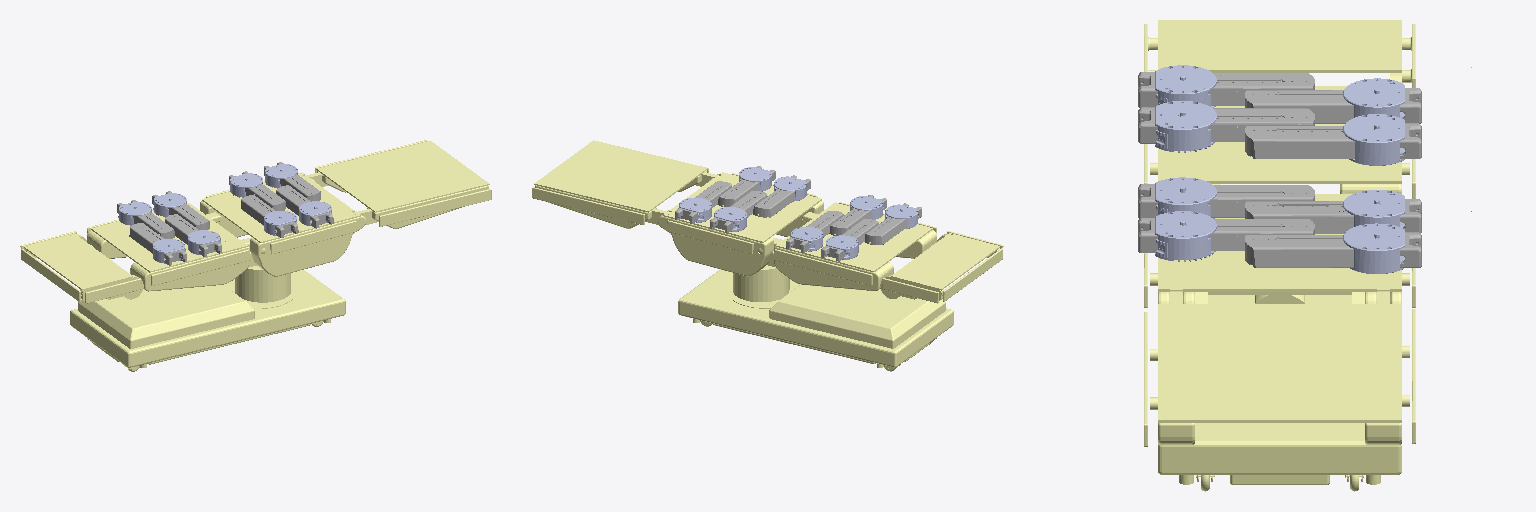
--- Facts derived from the render (not from the file) ---
3 views of the same robot in one strip: view 1: azimuth 30°, elevation 25°; view 2: azimuth 150°, elevation 25°; view 3: azimuth 270°, elevation 25° (orthographic).
Robot: drawers — 50 links, 49 joints (13 revolute, 11 prismatic, 24 fixed, 1 floating); root link common_robot_frame; default pose: joints at zero except 1 at the middle of their limits (bed_raisebed1_joint = 0.0775).
Links seen in each view (by area): view 1: bed_base_link, bed_feet_link, bed_legs_link, bed_back_link, bed_head_link, bed_raise_3_link, drawer3_translation_link, drawer7_translation_link, drawer1_translation_link, drawer5_translation_link, drawer2_translation_link, drawer6_translation_link (+4 smaller); view 2: bed_base_link, bed_feet_link, bed_legs_link, bed_back_link, bed_head_link, bed_raise_3_link, drawer3_translation_link, drawer7_translation_link, drawer0_translation_link, drawer2_translation_link, drawer4_translation_link, drawer6_translation_link (+2 smaller); view 3: bed_feet_link, bed_head_link, bed_base_link, bed_legs_link, bed_back_link, drawer4_translation_link, drawer0_translation_link, drawer6_translation_link, drawer2_translation_link, drawer5_translation_link, drawer7_translation_link, drawer3_translation_link (+10 smaller).
Link boxes in pixels (x1,y1,x2,y2): bed_base_link: [70, 270, 345, 371]; bed_feet_link: [304, 140, 491, 228]; bed_legs_link: [200, 172, 365, 276]; bed_back_link: [87, 203, 250, 292]; bed_head_link: [20, 231, 143, 303]; bed_raise_3_link: [235, 252, 290, 302]; drawer3_translation_link: [241, 195, 298, 237]; drawer7_translation_link: [129, 223, 186, 265]; drawer1_translation_link: [276, 185, 333, 228]; drawer5_translation_link: [165, 214, 221, 256]; drawer2_translation_link: [229, 171, 285, 210]; drawer6_translation_link: [117, 200, 174, 238]; bed_base_link: [678, 269, 953, 371]; bed_feet_link: [532, 140, 719, 228]; bed_legs_link: [658, 172, 823, 276]; bed_back_link: [774, 202, 936, 291]; bed_head_link: [880, 231, 1003, 303]; bed_raise_3_link: [733, 251, 789, 301]; drawer3_translation_link: [753, 175, 810, 217]; drawer7_translation_link: [865, 203, 921, 244]; drawer0_translation_link: [675, 181, 731, 223]; drawer2_translation_link: [710, 191, 766, 233]; drawer4_translation_link: [786, 211, 843, 252]; drawer6_translation_link: [821, 219, 878, 261]; bed_feet_link: [1144, 291, 1415, 446]; bed_head_link: [1144, 20, 1415, 87]; bed_base_link: [1158, 295, 1401, 491]; bed_legs_link: [1144, 194, 1415, 307]; bed_back_link: [1144, 86, 1415, 198]; drawer4_translation_link: [1245, 123, 1421, 158]; drawer0_translation_link: [1245, 232, 1421, 267]; drawer6_translation_link: [1245, 88, 1421, 123]; drawer2_translation_link: [1245, 199, 1421, 233]; drawer5_translation_link: [1138, 107, 1314, 143]; drawer7_translation_link: [1138, 72, 1314, 107]; drawer3_translation_link: [1138, 184, 1314, 218].
Size in the robot's own frame: 2.01 by 0.7825 by 0.6412 metres.
Meshes: 13 distinct files referenced, 33 mesh visuals loaded (12 binary STL); not drawn: 8 (reference not matched to a file when rendering).

robot.urdf — drawers:
<?xml version="1.0" ?>
<!-- =================================================================================== -->
<!-- |    This document was autogenerated by xacro from drawers.urdf.xacro             | -->
<!-- |    EDITING THIS FILE BY HAND IS NOT RECOMMENDED                                 | -->
<!-- =================================================================================== -->
<robot name="drawers" xmlns:xacro="http://ros.org/wiki/xacro">
  <!-- The following include files set up definitions of parts of the robot body -->
  <link name="common_robot_frame"/>
  <link name="bed_base_link">
    <inertial>
      <origin rpy="0 0 0" xyz="-0.131602965768192 -1.31458389088654E-05 0.424560708267021"/>
      <mass value="220.861213301065"/>
      <inertia ixx="17.0412486434188" ixy="-0.00369906898155943" ixz="6.62999788327738" iyy="63.6679488186394" iyz="-0.000297127244615984" izz="56.5939202197707"/>
    </inertial>
    <visual>
      <origin rpy="0 0 0" xyz="0 0 0"/>
      <geometry>
        <mesh filename="package://2015_drawer_urdf_3a/meshes/bed_base_link.STL"/>
      </geometry>
      <material name="">
        <color rgba="1 1 0.752941176470588 1"/>
      </material>
    </visual>
    <collision>
      <origin rpy="0 0 0" xyz="0 0 0"/>
      <geometry>
        <mesh filename="package://2015_drawer_urdf_3a/meshes/bed_base_link.STL"/>
      </geometry>
    </collision>
  </link>
  <joint name="bed_world_joint" type="floating">
    <child link="bed_base_link"/>
    <parent link="common_robot_frame"/>
    <origin rpy="0 0 0" xyz="0 0 0"/>
  </joint>
  <link name="bed_raise_1_link">
    <inertial>
      <origin rpy="0 0 0" xyz="-1.99815231730176E-33 -4.27276067386562E-18 0.142514003145377"/>
      <mass value="1.24228157237718"/>
      <inertia ixx="0.00789389297402003" ixy="-9.52796335324707E-36" ixz="3.82035664017243E-34" iyy="0.00789389297402004" iyz="3.67826563901197E-18" izz="0.0107451129457144"/>
    </inertial>
    <visual>
      <origin rpy="0 0 0" xyz="0 0 0"/>
      <geometry>
        <mesh filename="package://2015_drawer_urdf_3a/meshes/bed_raise_1_link.STL"/>
      </geometry>
      <material name="">
        <color rgba="0.792156862745098 0.819607843137255 0.933333333333333 1"/>
      </material>
    </visual>
    <collision>
      <origin rpy="0 0 0" xyz="0 0 0"/>
      <geometry>
        <mesh filename="package://2015_drawer_urdf_3a/meshes/bed_raise_1_link.STL"/>
      </geometry>
    </collision>
  </link>
  <joint name="bed_raisebed1_joint" type="prismatic">
    <origin rpy="0 0 0" xyz="0 0 0.14859"/>
    <parent link="bed_base_link"/>
    <child link="bed_raise_1_link"/>
    <axis xyz="0 0 -1"/>
    <limit effort="0" lower="0.00254" upper="0.1524" velocity="0"/>
  </joint>
  <link name="bed_raise_2_link">
    <inertial>
      <origin rpy="0 0 0" xyz="8.64073602451139E-20 1.50296821912865E-18 0.11748156814415"/>
      <mass value="1.33771407866088"/>
      <inertia ixx="0.00890960520031803" ixy="6.49139454712423E-19" ixz="-9.00775139575257E-21" iyy="0.00890960520031804" iyz="4.46757691140295E-19" izz="0.0122471599227618"/>
    </inertial>
    <visual>
      <origin rpy="0 0 0" xyz="0 0 0"/>
      <geometry>
        <mesh filename="package://2015_drawer_urdf_3a/meshes/bed_raise_2_link.STL"/>
      </geometry>
      <material name="">
        <color rgba="0.792156862745098 0.819607843137255 0.933333333333333 1"/>
      </material>
    </visual>
    <collision>
      <origin rpy="0 0 0" xyz="0 0 0"/>
      <geometry>
        <mesh filename="package://2015_drawer_urdf_3a/meshes/bed_raise_2_link.STL"/>
      </geometry>
    </collision>
  </link>
  <joint name="bed_raisebed2_joint" type="prismatic">
    <origin rpy="6.9389E-18 -1.6263E-18 -7.2858E-17" xyz="0 0 0.049604"/>
    <parent link="bed_raise_1_link"/>
    <child link="bed_raise_2_link"/>
    <axis xyz="0 0 -1"/>
    <limit effort="0" lower="0" upper="0.1281938" velocity="0"/>
  </joint>
  <link name="bed_raise_3_link">
    <inertial>
      <origin rpy="0 0 0" xyz="-0.131602965768195 -1.31458389134051E-05 0.20096670816103"/>
      <mass value="220.861213301065"/>
      <inertia ixx="17.0412486434191" ixy="-0.00369906898203669" ixz="6.62999788327741" iyy="63.6679488186396" iyz="-0.000297127245286047" izz="56.5939202197706"/>
    </inertial>
    <visual>
      <origin rpy="0 0 0" xyz="0 0 0"/>
      <geometry>
        <mesh filename="package://2015_drawer_urdf_3a/meshes/bed_raise_3_link.STL"/>
      </geometry>
      <material name="">
        <color rgba="1 1 0.752941176470588 1"/>
      </material>
    </visual>
    <collision>
      <origin rpy="0 0 0" xyz="0 0 0"/>
      <geometry>
        <mesh filename="package://2015_drawer_urdf_3a/meshes/bed_raise_3_link.STL"/>
      </geometry>
    </collision>
  </link>
  <joint name="bed_raisebed3_joint" type="prismatic">
    <origin rpy="-6.9389E-18 1.6263E-18 7.2858E-17" xyz="0 0 0.0254"/>
    <parent link="bed_raise_2_link"/>
    <child link="bed_raise_3_link"/>
    <axis xyz="0 0 -1"/>
    <limit effort="0" lower="0" upper="0.1280938" velocity="0"/>
  </joint>
  <link name="bed_roll_link">
    <inertial>
      <origin rpy="0 0 0" xyz="-0.206532965768191 -1.31458389258951E-05 -0.000419111910467174"/>
      <mass value="220.861213301065"/>
      <inertia ixx="17.0412486434192" ixy="-0.00369906898209181" ixz="6.6299978832765" iyy="63.6679488186395" iyz="-0.000297127245203958" izz="56.5939202197703"/>
    </inertial>
    <visual>
      <origin rpy="0 0 0" xyz="0 0 0"/>
      <geometry>
        <mesh filename="package://2015_drawer_urdf_3a/meshes/bed_roll_link.STL"/>
      </geometry>
      <material name="">
        <color rgba="1 1 0.752941176470588 1"/>
      </material>
    </visual>
    <collision>
      <origin rpy="0 0 0" xyz="0 0 0"/>
      <geometry>
        <mesh filename="package://2015_drawer_urdf_3a/meshes/bed_roll_link.STL"/>
      </geometry>
    </collision>
  </link>
  <joint name="bed_roll_joint" type="revolute">
    <origin rpy="0 0 1.41E-16" xyz="0.07493 0 0.20139"/>
    <parent link="bed_raise_3_link"/>
    <child link="bed_roll_link"/>
    <axis xyz="1 0 0"/>
    <limit effort="0" lower="-0.314159" upper="0.314159" velocity="0"/>
  </joint>
  <link name="bed_legs_link">
    <inertial>
      <origin rpy="0 0 0" xyz="-0.303754476390812 -1.31458389254153E-05 -0.00559641178311426"/>
      <mass value="220.861213301065"/>
      <inertia ixx="16.7371514079013" ixy="-0.00370529414581755" ixz="5.64238767898083" iyy="63.6679488186394" iyz="-0.000205405027519519" izz="56.8980174552881"/>
    </inertial>
    <visual>
      <origin rpy="0 0 0" xyz="0 0 0"/>
      <geometry>
        <mesh filename="package://2015_drawer_urdf_3a/meshes/bed_legs_link.STL"/>
      </geometry>
      <material name="">
        <color rgba="1 1 0.752941176470588 1"/>
      </material>
    </visual>
    <collision>
      <origin rpy="0 0 0" xyz="0 0 0"/>
      <geometry>
        <mesh filename="package://2015_drawer_urdf_3a/meshes/bed_legs_link.STL"/>
      </geometry>
    </collision>
  </link>
  <joint name="bed_legs_joint" type="revolute">
    <origin rpy="-1.4155E-16 -0.024774 -1.6506E-16" xyz="0.09699 0 0.0127"/>
    <parent link="bed_roll_link"/>
    <child link="bed_legs_link"/>
    <axis xyz="0 1 0"/>
    <limit effort="0" lower="-1.8326" upper="1.39626" velocity="0"/>
  </joint>
  <link name="bed_feet_link">
    <inertial>
      <origin rpy="0 0 0" xyz="-0.465751345892896 -1.31458389206471E-05 -0.14018414790818"/>
      <mass value="220.861213301065"/>
      <inertia ixx="17.041249225985" ixy="-0.00369906896899946" ixz="6.62999962098898" iyy="63.6679488186394" iyz="-0.00029712740764438" izz="56.5939196372044"/>
    </inertial>
    <visual>
      <origin rpy="0 0 0" xyz="0 0 0"/>
      <geometry>
        <mesh filename="package://2015_drawer_urdf_3a/meshes/bed_feet_link.STL"/>
      </geometry>
      <material name="">
        <color rgba="1 1 0.752941176470588 1"/>
      </material>
    </visual>
    <collision>
      <origin rpy="0 0 0" xyz="0 0 0"/>
      <geometry>
        <mesh filename="package://2015_drawer_urdf_3a/meshes/bed_feet_link.STL"/>
      </geometry>
    </collision>
  </link>
  <joint name="bed_feet_joint" type="revolute">
    <origin rpy="-3.3441E-15 0.024774 3.1467E-15" xyz="0.16533 0 0.12301"/>
    <parent link="bed_legs_link"/>
    <child link="bed_feet_link"/>
    <axis xyz="0 -1 0"/>
    <limit effort="0" lower="-0.785398" upper="1.5708" velocity="0"/>
  </joint>
  <link name="bed_back_link">
    <inertial>
      <origin rpy="0 0 0" xyz="0.00909211692765868 -1.31458389309267E-05 -0.118219915584304"/>
      <mass value="220.861213301065"/>
      <inertia ixx="17.0412486434188" ixy="-0.00369906898176745" ixz="6.62999788327738" iyy="63.6679488186394" iyz="-0.000297127245075865" izz="56.5939202197706"/>
    </inertial>
    <visual>
      <origin rpy="0 0 0" xyz="0 0 0"/>
      <geometry>
        <mesh filename="package://2015_drawer_urdf_3a/meshes/bed_back_link.STL"/>
      </geometry>
      <material name="">
        <color rgba="1 1 0.752941176470588 1"/>
      </material>
    </visual>
    <collision>
      <origin rpy="0 0 0" xyz="0 0 0"/>
      <geometry>
        <mesh filename="package://2015_drawer_urdf_3a/meshes/bed_back_link.STL"/>
      </geometry>
    </collision>
  </link>
  <joint name="bed_back_joint" type="revolute">
    <origin rpy="-3.3737E-15 0.024774 -3.4292E-15" xyz="-0.30992 0 0.11281"/>
    <parent link="bed_legs_link"/>
    <child link="bed_back_link"/>
    <axis xyz="0 1 0"/>
    <limit effort="0" lower="-0.436332" upper="0.959931" velocity="0"/>
  </joint>
  <link name="bed_head_link">
    <inertial>
      <origin rpy="0 0 0" xyz="0.646472585216925 -1.31458389304239E-05 -0.0937097727011466"/>
      <mass value="220.861213301065"/>
      <inertia ixx="17.0412486434188" ixy="-0.0036990689821148" ixz="6.62999788327738" iyy="63.6679488186394" iyz="-0.000297127245120003" izz="56.5939202197706"/>
    </inertial>
    <visual>
      <origin rpy="0 0 0" xyz="0 0 0"/>
      <geometry>
        <mesh filename="package://2015_drawer_urdf_3a/meshes/bed_head_link.STL"/>
      </geometry>
      <material name="">
        <color rgba="1 1 0.752941176470588 1"/>
      </material>
    </visual>
    <collision>
      <origin rpy="0 0 0" xyz="0 0 0"/>
      <geometry>
        <mesh filename="package://2015_drawer_urdf_3a/meshes/bed_head_link.STL"/>
      </geometry>
    </collision>
  </link>
  <joint name="bed_head_joint" type="revolute">
    <origin rpy="-1.9567E-16 6.5971E-31 6.8272E-15" xyz="-0.63738 0 -0.02451"/>
    <parent link="bed_back_link"/>
    <child link="bed_head_link"/>
    <axis xyz="0 1 0"/>
    <limit effort="0" lower="-1.5708" upper="1.5708" velocity="0"/>
  </joint>
  <joint name="drawer0_bed_joint" type="fixed">
    <origin rpy="0 0 -1.57" xyz="0.03833 0.19812 0.16699"/>
    <parent link="bed_legs_link"/>
    <child link="drawer0_bed_link"/>
    <axis xyz="0 0 0"/>
    <limit effort="0" lower="0" upper="0" velocity="0"/>
  </joint>
  <joint name="drawer1_bed_joint" type="fixed">
    <origin rpy="0 0 1.57" xyz="-0.02467 -0.19812 0.16699"/>
    <parent link="bed_legs_link"/>
    <child link="drawer1_bed_link"/>
    <axis xyz="0 0 0"/>
    <limit effort="0" lower="0" upper="0" velocity="0"/>
  </joint>
  <joint name="drawer2_bed_joint" type="fixed">
    <origin rpy="0 0 -1.57" xyz="-0.13262 0.19812 0.16699"/>
    <parent link="bed_legs_link"/>
    <child link="drawer2_bed_link"/>
    <axis xyz="0 0 0"/>
    <limit effort="0" lower="0" upper="0" velocity="0"/>
  </joint>
  <joint name="drawer3_bed_joint" type="fixed">
    <origin rpy="0 0 1.57" xyz="-0.19612 -0.19812 0.16699"/>
    <parent link="bed_legs_link"/>
    <child link="drawer3_bed_link"/>
    <axis xyz="0 0 0"/>
    <limit effort="0" lower="0" upper="0" velocity="0"/>
  </joint>
  <joint name="drawer4_bed_joint" type="fixed">
    <origin rpy="0 0 -1.57" xyz="-0.19821 0.19821 0.05374"/>
    <parent link="bed_back_link"/>
    <child link="drawer4_bed_link"/>
    <axis xyz="0 0 0"/>
    <limit effort="0" lower="0" upper="0" velocity="0"/>
  </joint>
  <joint name="drawer5_bed_joint" type="fixed">
    <origin rpy="0 0 1.57" xyz="-0.26171 -0.19812 0.05374"/>
    <parent link="bed_back_link"/>
    <child link="drawer5_bed_link"/>
    <axis xyz="0 0 0"/>
    <limit effort="0" lower="0" upper="0" velocity="0"/>
  </joint>
  <joint name="drawer6_bed_joint" type="fixed">
    <origin rpy="0 0 -1.57" xyz="-0.36966 0.19812 0.05374"/>
    <parent link="bed_back_link"/>
    <child link="drawer6_bed_link"/>
    <axis xyz="0 0 0"/>
    <limit effort="0" lower="0" upper="0" velocity="0"/>
  </joint>
  <joint name="drawer7_bed_joint" type="fixed">
    <origin rpy="0 0 1.57" xyz="-0.43316 -0.19812 0.05374"/>
    <parent link="bed_back_link"/>
    <child link="drawer7_bed_link"/>
    <axis xyz="0 0 0"/>
    <limit effort="0" lower="0" upper="0" velocity="0"/>
  </joint>
  <link name="drawer0_bed_link">
    <visual>
      <origin rpy="0 0 0 " xyz="0 0 0"/>
      <geometry>
        <box size="0.001 0.001 0.001"/>
      </geometry>
      <material name="default_material">
        <color rgba="0.752941176470588 0.752941176470588 0.752941176470588 1"/>
      </material>
    </visual>
    <collision>
      <box size="0.001 0.001 0.001"/>
      <geometry>
        <box size="0.001 0.001 0.001"/>
      </geometry>
    </collision>
  </link>
  <joint name="drawer0_bed_base_joint" type="fixed">
    <origin rpy="0 0 0" xyz="0 0 0"/>
    <parent link="drawer0_bed_link"/>
    <child link="drawer0_base_link"/>
    <axis xyz="0 0 1"/>
    <limit effort="0" lower="0" upper="0" velocity="0"/>
  </joint>
  <link name="drawer0_base_link">
    <visual>
      <origin rpy="0 0 0" xyz="0 0 0"/>
      <geometry>
        <mesh filename="package://2015_drawer_urdf_3a/meshes/base_link.STL"/>
      </geometry>
      <material name="gray1">
        <color rgba="0.792156862745098 0.819607843137255 0.933333333333333 1"/>
      </material>
    </visual>
    <collision>
      <origin rpy="0 0 0" xyz="0 0 0"/>
      <geometry>
        <mesh filename="package://2015_drawer_urdf_3a/meshes/base_link.STL"/>
      </geometry>
    </collision>
  </link>
  <link name="drawer0_rotation_link">
    <visual>
      <origin rpy="0 0 0" xyz="0 0 0"/>
      <geometry>
        <mesh filename="package://2015_drawer_urdf_3a/meshes/Rotation_link.STL"/>
      </geometry>
      <material name="gray1">
        <color rgba="0.792156862745098 0.819607843137255 0.933333333333333 1"/>
      </material>
    </visual>
    <collision>
      <origin rpy="0 0 0" xyz="0 0 0"/>
      <geometry>
        <mesh filename="package://2015_drawer_urdf_3a/meshes/Rotation_link.STL"/>
      </geometry>
    </collision>
  </link>
  <joint name="drawer0_rotation_joint" type="revolute">
    <origin rpy="0 0 0" xyz="0 0 0"/>
    <parent link="drawer0_base_link"/>
    <child link="drawer0_rotation_link"/>
    <axis xyz="0 0 1"/>
    <limit effort="0" lower="-3.14159" upper="3.14159" velocity="0"/>
  </joint>
  <link name="drawer0_translation_link">
    <visual>
      <origin rpy="0 0 0" xyz="0 0 0"/>
      <geometry>
        <mesh filename="package://2015_drawer_urdf_3a/meshes/Translation_link.STL"/>
      </geometry>
      <material name="gray2">
        <color rgba="0.752941176470588 0.752941176470588 0.752941176470588 1"/>
      </material>
    </visual>
    <collision>
      <origin rpy="0 0 0" xyz="0 0 0"/>
      <geometry>
        <mesh filename="package://2015_drawer_urdf_3a/meshes/Translation_link.STL"/>
      </geometry>
    </collision>
  </link>
  <joint name="drawer0_translation_joint" type="prismatic">
    <origin rpy="0 0 0" xyz="0 0 0"/>
    <parent link="drawer0_rotation_link"/>
    <child link="drawer0_translation_link"/>
    <axis xyz="1 0 0"/>
    <limit effort="0" lower="-0.2" upper="0" velocity="0"/>
  </joint>
  <link name="drawer0_dummy_link">
    <visual>
      <origin rpy="0 0 0" xyz="0 0 0"/>
      <geometry>
        <mesh filename="package://2015_drawer_urdf_3a/meshes/dummy_link.STL"/>
      </geometry>
      <material name="gray2">
        <color rgba="0.752941176470588 0.752941176470588 0.752941176470588 1"/>
      </material>
    </visual>
    <collision>
      <origin rpy="0 0 0" xyz="0 0 0"/>
      <geometry>
        <mesh filename="package://2015_drawer_urdf_3a/meshes/dummy_link.STL"/>
      </geometry>
    </collision>
  </link>
  <joint name="drawer0_dummy_joint" type="fixed">
    <origin rpy="1.571 0 0" xyz="-0.192576 0.0063436 0.11251"/>
    <parent link="drawer0_translation_link"/>
    <child link="drawer0_dummy_link"/>
    <axis xyz="0 1 0"/>
    <limit effort="0" lower="0" upper="0" velocity="0"/>
  </joint>
  <link name="drawer1_bed_link">
    <visual>
      <origin rpy="0 0 0 " xyz="0 0 0"/>
      <geometry>
        <box size="0.001 0.001 0.001"/>
      </geometry>
      <material name="default_material">
        <color rgba="0.752941176470588 0.752941176470588 0.752941176470588 1"/>
      </material>
    </visual>
    <collision>
      <box size="0.001 0.001 0.001"/>
      <geometry>
        <box size="0.001 0.001 0.001"/>
      </geometry>
    </collision>
  </link>
  <joint name="drawer1_bed_base_joint" type="fixed">
    <origin rpy="0 0 0" xyz="0 0 0"/>
    <parent link="drawer1_bed_link"/>
    <child link="drawer1_base_link"/>
    <axis xyz="0 0 1"/>
    <limit effort="0" lower="0" upper="0" velocity="0"/>
  </joint>
  <link name="drawer1_base_link">
    <visual>
      <origin rpy="0 0 0" xyz="0 0 0"/>
      <geometry>
        <mesh filename="package://2015_drawer_urdf_3a/meshes/base_link.STL"/>
      </geometry>
      <material name="gray1">
        <color rgba="0.792156862745098 0.819607843137255 0.933333333333333 1"/>
      </material>
    </visual>
    <collision>
      <origin rpy="0 0 0" xyz="0 0 0"/>
      <geometry>
        <mesh filename="package://2015_drawer_urdf_3a/meshes/base_link.STL"/>
      </geometry>
    </collision>
  </link>
  <link name="drawer1_rotation_link">
    <visual>
      <origin rpy="0 0 0" xyz="0 0 0"/>
      <geometry>
        <mesh filename="package://2015_drawer_urdf_3a/meshes/Rotation_link.STL"/>
      </geometry>
      <material name="gray1">
        <color rgba="0.792156862745098 0.819607843137255 0.933333333333333 1"/>
      </material>
    </visual>
    <collision>
      <origin rpy="0 0 0" xyz="0 0 0"/>
      <geometry>
        <mesh filename="package://2015_drawer_urdf_3a/meshes/Rotation_link.STL"/>
      </geometry>
    </collision>
  </link>
  <joint name="drawer1_rotation_joint" type="revolute">
    <origin rpy="0 0 0" xyz="0 0 0"/>
    <parent link="drawer1_base_link"/>
    <child link="drawer1_rotation_link"/>
    <axis xyz="0 0 1"/>
    <limit effort="0" lower="-3.14159" upper="3.14159" velocity="0"/>
  </joint>
  <link name="drawer1_translation_link">
    <visual>
      <origin rpy="0 0 0" xyz="0 0 0"/>
      <geometry>
        <mesh filename="package://2015_drawer_urdf_3a/meshes/Translation_link.STL"/>
      </geometry>
      <material name="gray2">
        <color rgba="0.752941176470588 0.752941176470588 0.752941176470588 1"/>
      </material>
    </visual>
    <collision>
      <origin rpy="0 0 0" xyz="0 0 0"/>
      <geometry>
        <mesh filename="package://2015_drawer_urdf_3a/meshes/Translation_link.STL"/>
      </geometry>
    </collision>
  </link>
  <joint name="drawer1_translation_joint" type="prismatic">
    <origin rpy="0 0 0" xyz="0 0 0"/>
    <parent link="drawer1_rotation_link"/>
    <child link="drawer1_translation_link"/>
    <axis xyz="1 0 0"/>
    <limit effort="0" lower="-0.2" upper="0" velocity="0"/>
  </joint>
  <link name="drawer1_dummy_link">
    <visual>
      <origin rpy="0 0 0" xyz="0 0 0"/>
      <geometry>
        <mesh filename="package://2015_drawer_urdf_3a/meshes/dummy_link.STL"/>
      </geometry>
      <material name="gray2">
        <color rgba="0.752941176470588 0.752941176470588 0.752941176470588 1"/>
      </material>
    </visual>
    <collision>
      <origin rpy="0 0 0" xyz="0 0 0"/>
      <geometry>
        <mesh filename="package://2015_drawer_urdf_3a/meshes/dummy_link.STL"/>
      </geometry>
    </collision>
  </link>
  <joint name="drawer1_dummy_joint" type="fixed">
    <origin rpy="1.571 0 0" xyz="-0.192576 0.0063436 0.11251"/>
    <parent link="drawer1_translation_link"/>
    <child link="drawer1_dummy_link"/>
    <axis xyz="0 1 0"/>
    <limit effort="0" lower="0" upper="0" velocity="0"/>
  </joint>
  <link name="drawer2_bed_link">
    <visual>
      <origin rpy="0 0 0 " xyz="0 0 0"/>
      <geometry>
        <box size="0.001 0.001 0.001"/>
      </geometry>
      <material name="default_material">
        <color rgba="0.752941176470588 0.752941176470588 0.752941176470588 1"/>
      </material>
    </visual>
    <collision>
      <box size="0.001 0.001 0.001"/>
      <geometry>
        <box size="0.001 0.001 0.001"/>
      </geometry>
    </collision>
  </link>
  <joint name="drawer2_bed_base_joint" type="fixed">
    <origin rpy="0 0 0" xyz="0 0 0"/>
    <parent link="drawer2_bed_link"/>
    <child link="drawer2_base_link"/>
    <axis xyz="0 0 1"/>
    <limit effort="0" lower="0" upper="0" velocity="0"/>
  </joint>
  <link name="drawer2_base_link">
    <visual>
      <origin rpy="0 0 0" xyz="0 0 0"/>
      <geometry>
        <mesh filename="package://2015_drawer_urdf_3a/meshes/base_link.STL"/>
      </geometry>
      <material name="gray1">
        <color rgba="0.792156862745098 0.819607843137255 0.933333333333333 1"/>
      </material>
    </visual>
    <collision>
      <origin rpy="0 0 0" xyz="0 0 0"/>
      <geometry>
        <mesh filename="package://2015_drawer_urdf_3a/meshes/base_link.STL"/>
      </geometry>
    </collision>
  </link>
  <link name="drawer2_rotation_link">
    <visual>
      <origin rpy="0 0 0" xyz="0 0 0"/>
      <geometry>
        <mesh filename="package://2015_drawer_urdf_3a/meshes/Rotation_link.STL"/>
      </geometry>
      <material name="gray1">
        <color rgba="0.792156862745098 0.819607843137255 0.933333333333333 1"/>
      </material>
    </visual>
    <collision>
      <origin rpy="0 0 0" xyz="0 0 0"/>
      <geometry>
        <mesh filename="package://2015_drawer_urdf_3a/meshes/Rotation_link.STL"/>
      </geometry>
    </collision>
  </link>
  <joint name="drawer2_rotation_joint" type="revolute">
    <origin rpy="0 0 0" xyz="0 0 0"/>
    <parent link="drawer2_base_link"/>
    <child link="drawer2_rotation_link"/>
    <axis xyz="0 0 1"/>
    <limit effort="0" lower="-3.14159" upper="3.14159" velocity="0"/>
  </joint>
  <link name="drawer2_translation_link">
    <visual>
      <origin rpy="0 0 0" xyz="0 0 0"/>
      <geometry>
        <mesh filename="package://2015_drawer_urdf_3a/meshes/Translation_link.STL"/>
      </geometry>
      <material name="gray2">
        <color rgba="0.752941176470588 0.752941176470588 0.752941176470588 1"/>
      </material>
    </visual>
    <collision>
      <origin rpy="0 0 0" xyz="0 0 0"/>
      <geometry>
        <mesh filename="package://2015_drawer_urdf_3a/meshes/Translation_link.STL"/>
      </geometry>
    </collision>
  </link>
  <joint name="drawer2_translation_joint" type="prismatic">
    <origin rpy="0 0 0" xyz="0 0 0"/>
    <parent link="drawer2_rotation_link"/>
    <child link="drawer2_translation_link"/>
    <axis xyz="1 0 0"/>
    <limit effort="0" lower="-0.2" upper="0" velocity="0"/>
  </joint>
  <link name="drawer2_dummy_link">
    <visual>
      <origin rpy="0 0 0" xyz="0 0 0"/>
      <geometry>
        <mesh filename="package://2015_drawer_urdf_3a/meshes/dummy_link.STL"/>
      </geometry>
      <material name="gray2">
        <color rgba="0.752941176470588 0.752941176470588 0.752941176470588 1"/>
      </material>
    </visual>
    <collision>
      <origin rpy="0 0 0" xyz="0 0 0"/>
      <geometry>
        <mesh filename="package://2015_drawer_urdf_3a/meshes/dummy_link.STL"/>
      </geometry>
    </collision>
  </link>
  <joint name="drawer2_dummy_joint" type="fixed">
    <origin rpy="1.571 0 0" xyz="-0.192576 0.0063436 0.11251"/>
    <parent link="drawer2_translation_link"/>
    <child link="drawer2_dummy_link"/>
    <axis xyz="0 1 0"/>
    <limit effort="0" lower="0" upper="0" velocity="0"/>
  </joint>
  <link name="drawer3_bed_link">
    <visual>
      <origin rpy="0 0 0 " xyz="0 0 0"/>
      <geometry>
        <box size="0.001 0.001 0.001"/>
      </geometry>
      <material name="default_material">
        <color rgba="0.752941176470588 0.752941176470588 0.752941176470588 1"/>
      </material>
    </visual>
    <collision>
      <box size="0.001 0.001 0.001"/>
      <geometry>
        <box size="0.001 0.001 0.001"/>
      </geometry>
    </collision>
  </link>
  <joint name="drawer3_bed_base_joint" type="fixed">
    <origin rpy="0 0 0" xyz="0 0 0"/>
    <parent link="drawer3_bed_link"/>
    <child link="drawer3_base_link"/>
    <axis xyz="0 0 1"/>
    <limit effort="0" lower="0" upper="0" velocity="0"/>
  </joint>
  <link name="drawer3_base_link">
    <visual>
      <origin rpy="0 0 0" xyz="0 0 0"/>
      <geometry>
        <mesh filename="package://2015_drawer_urdf_3a/meshes/base_link.STL"/>
      </geometry>
      <material name="gray1">
        <color rgba="0.792156862745098 0.819607843137255 0.933333333333333 1"/>
      </material>
    </visual>
    <collision>
      <origin rpy="0 0 0" xyz="0 0 0"/>
      <geometry>
        <mesh filename="package://2015_drawer_urdf_3a/meshes/base_link.STL"/>
      </geometry>
    </collision>
  </link>
  <link name="drawer3_rotation_link">
    <visual>
      <origin rpy="0 0 0" xyz="0 0 0"/>
      <geometry>
        <mesh filename="package://2015_drawer_urdf_3a/meshes/Rotation_link.STL"/>
      </geometry>
      <material name="gray1">
        <color rgba="0.792156862745098 0.819607843137255 0.933333333333333 1"/>
      </material>
    </visual>
    <collision>
      <origin rpy="0 0 0" xyz="0 0 0"/>
      <geometry>
        <mesh filename="package://2015_drawer_urdf_3a/meshes/Rotation_link.STL"/>
      </geometry>
    </collision>
  </link>
  <joint name="drawer3_rotation_joint" type="revolute">
    <origin rpy="0 0 0" xyz="0 0 0"/>
    <parent link="drawer3_base_link"/>
    <child link="drawer3_rotation_link"/>
    <axis xyz="0 0 1"/>
    <limit effort="0" lower="-3.14159" upper="3.14159" velocity="0"/>
  </joint>
  <link name="drawer3_translation_link">
    <visual>
      <origin rpy="0 0 0" xyz="0 0 0"/>
      <geometry>
        <mesh filename="package://2015_drawer_urdf_3a/meshes/Translation_link.STL"/>
      </geometry>
      <material name="gray2">
        <color rgba="0.752941176470588 0.752941176470588 0.752941176470588 1"/>
      </material>
    </visual>
    <collision>
      <origin rpy="0 0 0" xyz="0 0 0"/>
      <geometry>
        <mesh filename="package://2015_drawer_urdf_3a/meshes/Translation_link.STL"/>
      </geometry>
    </collision>
  </link>
  <joint name="drawer3_translation_joint" type="prismatic">
    <origin rpy="0 0 0" xyz="0 0 0"/>
    <parent link="drawer3_rotation_link"/>
    <child link="drawer3_translation_link"/>
    <axis xyz="1 0 0"/>
    <limit effort="0" lower="-0.2" upper="0" velocity="0"/>
  </joint>
  <link name="drawer3_dummy_link">
    <visual>
      <origin rpy="0 0 0" xyz="0 0 0"/>
      <geometry>
        <mesh filename="package://2015_drawer_urdf_3a/meshes/dummy_link.STL"/>
      </geometry>
      <material name="gray2">
        <color rgba="0.752941176470588 0.752941176470588 0.752941176470588 1"/>
      </material>
    </visual>
    <collision>
      <origin rpy="0 0 0" xyz="0 0 0"/>
      <geometry>
        <mesh filename="package://2015_drawer_urdf_3a/meshes/dummy_link.STL"/>
      </geometry>
    </collision>
  </link>
  <joint name="drawer3_dummy_joint" type="fixed">
    <origin rpy="1.571 0 0" xyz="-0.192576 0.0063436 0.11251"/>
    <parent link="drawer3_translation_link"/>
    <child link="drawer3_dummy_link"/>
    <axis xyz="0 1 0"/>
    <limit effort="0" lower="0" upper="0" velocity="0"/>
  </joint>
  <link name="drawer4_bed_link">
    <visual>
      <origin rpy="0 0 0 " xyz="0 0 0"/>
      <geometry>
        <box size="0.001 0.001 0.001"/>
      </geometry>
      <material name="default_material">
        <color rgba="0.752941176470588 0.752941176470588 0.752941176470588 1"/>
      </material>
    </visual>
    <collision>
      <box size="0.001 0.001 0.001"/>
      <geometry>
        <box size="0.001 0.001 0.001"/>
      </geometry>
    </collision>
  </link>
  <joint name="drawer4_bed_base_joint" type="fixed">
    <origin rpy="0 0 0" xyz="0 0 0"/>
    <parent link="drawer4_bed_link"/>
    <child link="drawer4_base_link"/>
    <axis xyz="0 0 1"/>
    <limit effort="0" lower="0" upper="0" velocity="0"/>
  </joint>
  <link name="drawer4_base_link">
    <visual>
      <origin rpy="0 0 0" xyz="0 0 0"/>
      <geometry>
        <mesh filename="package://2015_drawer_urdf_3a/meshes/base_link.STL"/>
      </geometry>
      <material name="gray1">
        <color rgba="0.792156862745098 0.819607843137255 0.933333333333333 1"/>
      </material>
    </visual>
    <collision>
      <origin rpy="0 0 0" xyz="0 0 0"/>
      <geometry>
        <mesh filename="package://2015_drawer_urdf_3a/meshes/base_link.STL"/>
      </geometry>
    </collision>
  </link>
  <link name="drawer4_rotation_link">
    <visual>
      <origin rpy="0 0 0" xyz="0 0 0"/>
      <geometry>
        <mesh filename="package://2015_drawer_urdf_3a/meshes/Rotation_link.STL"/>
      </geometry>
      <material name="gray1">
        <color rgba="0.792156862745098 0.819607843137255 0.933333333333333 1"/>
      </material>
    </visual>
    <collision>
      <origin rpy="0 0 0" xyz="0 0 0"/>
      <geometry>
        <mesh filename="package://2015_drawer_urdf_3a/meshes/Rotation_link.STL"/>
      </geometry>
    </collision>
  </link>
  <joint name="drawer4_rotation_joint" type="revolute">
    <origin rpy="0 0 0" xyz="0 0 0"/>
    <parent link="drawer4_base_link"/>
    <child link="drawer4_rotation_link"/>
    <axis xyz="0 0 1"/>
    <limit effort="0" lower="-3.14159" upper="3.14159" velocity="0"/>
  </joint>
  <link name="drawer4_translation_link">
    <visual>
      <origin rpy="0 0 0" xyz="0 0 0"/>
      <geometry>
        <mesh filename="package://2015_drawer_urdf_3a/meshes/Translation_link.STL"/>
      </geometry>
      <material name="gray2">
        <color rgba="0.752941176470588 0.752941176470588 0.752941176470588 1"/>
      </material>
    </visual>
    <collision>
      <origin rpy="0 0 0" xyz="0 0 0"/>
      <geometry>
        <mesh filename="package://2015_drawer_urdf_3a/meshes/Translation_link.STL"/>
      </geometry>
    </collision>
  </link>
  <joint name="drawer4_translation_joint" type="prismatic">
    <origin rpy="0 0 0" xyz="0 0 0"/>
    <parent link="drawer4_rotation_link"/>
    <child link="drawer4_translation_link"/>
    <axis xyz="1 0 0"/>
    <limit effort="0" lower="-0.2" upper="0" velocity="0"/>
  </joint>
  <link name="drawer4_dummy_link">
    <visual>
      <origin rpy="0 0 0" xyz="0 0 0"/>
      <geometry>
        <mesh filename="package://2015_drawer_urdf_3a/meshes/dummy_link.STL"/>
      </geometry>
      <material name="gray2">
        <color rgba="0.752941176470588 0.752941176470588 0.752941176470588 1"/>
      </material>
    </visual>
    <collision>
      <origin rpy="0 0 0" xyz="0 0 0"/>
      <geometry>
        <mesh filename="package://2015_drawer_urdf_3a/meshes/dummy_link.STL"/>
      </geometry>
    </collision>
  </link>
  <joint name="drawer4_dummy_joint" type="fixed">
    <origin rpy="1.571 0 0" xyz="-0.192576 0.0063436 0.11251"/>
    <parent link="drawer4_translation_link"/>
    <child link="drawer4_dummy_link"/>
    <axis xyz="0 1 0"/>
    <limit effort="0" lower="0" upper="0" velocity="0"/>
  </joint>
  <link name="drawer5_bed_link">
    <visual>
      <origin rpy="0 0 0 " xyz="0 0 0"/>
      <geometry>
        <box size="0.001 0.001 0.001"/>
      </geometry>
      <material name="default_material">
        <color rgba="0.752941176470588 0.752941176470588 0.752941176470588 1"/>
      </material>
    </visual>
    <collision>
      <box size="0.001 0.001 0.001"/>
      <geometry>
        <box size="0.001 0.001 0.001"/>
      </geometry>
    </collision>
  </link>
  <joint name="drawer5_bed_base_joint" type="fixed">
    <origin rpy="0 0 0" xyz="0 0 0"/>
    <parent link="drawer5_bed_link"/>
    <child link="drawer5_base_link"/>
    <axis xyz="0 0 1"/>
    <limit effort="0" lower="0" upper="0" velocity="0"/>
  </joint>
  <link name="drawer5_base_link">
    <visual>
      <origin rpy="0 0 0" xyz="0 0 0"/>
      <geometry>
        <mesh filename="package://2015_drawer_urdf_3a/meshes/base_link.STL"/>
      </geometry>
      <material name="gray1">
        <color rgba="0.792156862745098 0.819607843137255 0.933333333333333 1"/>
      </material>
    </visual>
    <collision>
      <origin rpy="0 0 0" xyz="0 0 0"/>
      <geometry>
        <mesh filename="package://2015_drawer_urdf_3a/meshes/base_link.STL"/>
      </geometry>
    </collision>
  </link>
  <link name="drawer5_rotation_link">
    <visual>
      <origin rpy="0 0 0" xyz="0 0 0"/>
      <geometry>
        <mesh filename="package://2015_drawer_urdf_3a/meshes/Rotation_link.STL"/>
      </geometry>
      <material name="gray1">
        <color rgba="0.792156862745098 0.819607843137255 0.933333333333333 1"/>
      </material>
    </visual>
    <collision>
      <origin rpy="0 0 0" xyz="0 0 0"/>
      <geometry>
        <mesh filename="package://2015_drawer_urdf_3a/meshes/Rotation_link.STL"/>
      </geometry>
    </collision>
  </link>
  <joint name="drawer5_rotation_joint" type="revolute">
    <origin rpy="0 0 0" xyz="0 0 0"/>
    <parent link="drawer5_base_link"/>
    <child link="drawer5_rotation_link"/>
    <axis xyz="0 0 1"/>
    <limit effort="0" lower="-3.14159" upper="3.14159" velocity="0"/>
  </joint>
  <link name="drawer5_translation_link">
    <visual>
      <origin rpy="0 0 0" xyz="0 0 0"/>
      <geometry>
        <mesh filename="package://2015_drawer_urdf_3a/meshes/Translation_link.STL"/>
      </geometry>
      <material name="gray2">
        <color rgba="0.752941176470588 0.752941176470588 0.752941176470588 1"/>
      </material>
    </visual>
    <collision>
      <origin rpy="0 0 0" xyz="0 0 0"/>
      <geometry>
        <mesh filename="package://2015_drawer_urdf_3a/meshes/Translation_link.STL"/>
      </geometry>
    </collision>
  </link>
  <joint name="drawer5_translation_joint" type="prismatic">
    <origin rpy="0 0 0" xyz="0 0 0"/>
    <parent link="drawer5_rotation_link"/>
    <child link="drawer5_translation_link"/>
    <axis xyz="1 0 0"/>
    <limit effort="0" lower="-0.2" upper="0" velocity="0"/>
  </joint>
  <link name="drawer5_dummy_link">
    <visual>
      <origin rpy="0 0 0" xyz="0 0 0"/>
      <geometry>
        <mesh filename="package://2015_drawer_urdf_3a/meshes/dummy_link.STL"/>
      </geometry>
      <material name="gray2">
        <color rgba="0.752941176470588 0.752941176470588 0.752941176470588 1"/>
      </material>
    </visual>
    <collision>
      <origin rpy="0 0 0" xyz="0 0 0"/>
      <geometry>
        <mesh filename="package://2015_drawer_urdf_3a/meshes/dummy_link.STL"/>
      </geometry>
    </collision>
  </link>
  <joint name="drawer5_dummy_joint" type="fixed">
    <origin rpy="1.571 0 0" xyz="-0.192576 0.0063436 0.11251"/>
    <parent link="drawer5_translation_link"/>
    <child link="drawer5_dummy_link"/>
    <axis xyz="0 1 0"/>
    <limit effort="0" lower="0" upper="0" velocity="0"/>
  </joint>
  <link name="drawer6_bed_link">
    <visual>
      <origin rpy="0 0 0 " xyz="0 0 0"/>
      <geometry>
        <box size="0.001 0.001 0.001"/>
      </geometry>
      <material name="default_material">
        <color rgba="0.752941176470588 0.752941176470588 0.752941176470588 1"/>
      </material>
    </visual>
    <collision>
      <box size="0.001 0.001 0.001"/>
      <geometry>
        <box size="0.001 0.001 0.001"/>
      </geometry>
    </collision>
  </link>
  <joint name="drawer6_bed_base_joint" type="fixed">
    <origin rpy="0 0 0" xyz="0 0 0"/>
    <parent link="drawer6_bed_link"/>
    <child link="drawer6_base_link"/>
    <axis xyz="0 0 1"/>
    <limit effort="0" lower="0" upper="0" velocity="0"/>
  </joint>
  <link name="drawer6_base_link">
    <visual>
      <origin rpy="0 0 0" xyz="0 0 0"/>
      <geometry>
        <mesh filename="package://2015_drawer_urdf_3a/meshes/base_link.STL"/>
      </geometry>
      <material name="gray1">
        <color rgba="0.792156862745098 0.819607843137255 0.933333333333333 1"/>
      </material>
    </visual>
    <collision>
      <origin rpy="0 0 0" xyz="0 0 0"/>
      <geometry>
        <mesh filename="package://2015_drawer_urdf_3a/meshes/base_link.STL"/>
      </geometry>
    </collision>
  </link>
  <link name="drawer6_rotation_link">
    <visual>
      <origin rpy="0 0 0" xyz="0 0 0"/>
      <geometry>
        <mesh filename="package://2015_drawer_urdf_3a/meshes/Rotation_link.STL"/>
      </geometry>
      <material name="gray1">
        <color rgba="0.792156862745098 0.819607843137255 0.933333333333333 1"/>
      </material>
    </visual>
    <collision>
      <origin rpy="0 0 0" xyz="0 0 0"/>
      <geometry>
        <mesh filename="package://2015_drawer_urdf_3a/meshes/Rotation_link.STL"/>
      </geometry>
    </collision>
  </link>
  <joint name="drawer6_rotation_joint" type="revolute">
    <origin rpy="0 0 0" xyz="0 0 0"/>
    <parent link="drawer6_base_link"/>
    <child link="drawer6_rotation_link"/>
    <axis xyz="0 0 1"/>
    <limit effort="0" lower="-3.14159" upper="3.14159" velocity="0"/>
  </joint>
  <link name="drawer6_translation_link">
    <visual>
      <origin rpy="0 0 0" xyz="0 0 0"/>
      <geometry>
        <mesh filename="package://2015_drawer_urdf_3a/meshes/Translation_link.STL"/>
      </geometry>
      <material name="gray2">
        <color rgba="0.752941176470588 0.752941176470588 0.752941176470588 1"/>
      </material>
    </visual>
    <collision>
      <origin rpy="0 0 0" xyz="0 0 0"/>
      <geometry>
        <mesh filename="package://2015_drawer_urdf_3a/meshes/Translation_link.STL"/>
      </geometry>
    </collision>
  </link>
  <joint name="drawer6_translation_joint" type="prismatic">
    <origin rpy="0 0 0" xyz="0 0 0"/>
    <parent link="drawer6_rotation_link"/>
    <child link="drawer6_translation_link"/>
    <axis xyz="1 0 0"/>
    <limit effort="0" lower="-0.2" upper="0" velocity="0"/>
  </joint>
  <link name="drawer6_dummy_link">
    <visual>
      <origin rpy="0 0 0" xyz="0 0 0"/>
      <geometry>
        <mesh filename="package://2015_drawer_urdf_3a/meshes/dummy_link.STL"/>
      </geometry>
      <material name="gray2">
        <color rgba="0.752941176470588 0.752941176470588 0.752941176470588 1"/>
      </material>
    </visual>
    <collision>
      <origin rpy="0 0 0" xyz="0 0 0"/>
      <geometry>
        <mesh filename="package://2015_drawer_urdf_3a/meshes/dummy_link.STL"/>
      </geometry>
    </collision>
  </link>
  <joint name="drawer6_dummy_joint" type="fixed">
    <origin rpy="1.571 0 0" xyz="-0.192576 0.0063436 0.11251"/>
    <parent link="drawer6_translation_link"/>
    <child link="drawer6_dummy_link"/>
    <axis xyz="0 1 0"/>
    <limit effort="0" lower="0" upper="0" velocity="0"/>
  </joint>
  <link name="drawer7_bed_link">
    <visual>
      <origin rpy="0 0 0 " xyz="0 0 0"/>
      <geometry>
        <box size="0.001 0.001 0.001"/>
      </geometry>
      <material name="default_material">
        <color rgba="0.752941176470588 0.752941176470588 0.752941176470588 1"/>
      </material>
    </visual>
    <collision>
      <box size="0.001 0.001 0.001"/>
      <geometry>
        <box size="0.001 0.001 0.001"/>
      </geometry>
    </collision>
  </link>
  <joint name="drawer7_bed_base_joint" type="fixed">
    <origin rpy="0 0 0" xyz="0 0 0"/>
    <parent link="drawer7_bed_link"/>
    <child link="drawer7_base_link"/>
    <axis xyz="0 0 1"/>
    <limit effort="0" lower="0" upper="0" velocity="0"/>
  </joint>
  <link name="drawer7_base_link">
    <visual>
      <origin rpy="0 0 0" xyz="0 0 0"/>
      <geometry>
        <mesh filename="package://2015_drawer_urdf_3a/meshes/base_link.STL"/>
      </geometry>
      <material name="gray1">
        <color rgba="0.792156862745098 0.819607843137255 0.933333333333333 1"/>
      </material>
    </visual>
    <collision>
      <origin rpy="0 0 0" xyz="0 0 0"/>
      <geometry>
        <mesh filename="package://2015_drawer_urdf_3a/meshes/base_link.STL"/>
      </geometry>
    </collision>
  </link>
  <link name="drawer7_rotation_link">
    <visual>
      <origin rpy="0 0 0" xyz="0 0 0"/>
      <geometry>
        <mesh filename="package://2015_drawer_urdf_3a/meshes/Rotation_link.STL"/>
      </geometry>
      <material name="gray1">
        <color rgba="0.792156862745098 0.819607843137255 0.933333333333333 1"/>
      </material>
    </visual>
    <collision>
      <origin rpy="0 0 0" xyz="0 0 0"/>
      <geometry>
        <mesh filename="package://2015_drawer_urdf_3a/meshes/Rotation_link.STL"/>
      </geometry>
    </collision>
  </link>
  <joint name="drawer7_rotation_joint" type="revolute">
    <origin rpy="0 0 0" xyz="0 0 0"/>
    <parent link="drawer7_base_link"/>
    <child link="drawer7_rotation_link"/>
    <axis xyz="0 0 1"/>
    <limit effort="0" lower="-3.14159" upper="3.14159" velocity="0"/>
  </joint>
  <link name="drawer7_translation_link">
    <visual>
      <origin rpy="0 0 0" xyz="0 0 0"/>
      <geometry>
        <mesh filename="package://2015_drawer_urdf_3a/meshes/Translation_link.STL"/>
      </geometry>
      <material name="gray2">
        <color rgba="0.752941176470588 0.752941176470588 0.752941176470588 1"/>
      </material>
    </visual>
    <collision>
      <origin rpy="0 0 0" xyz="0 0 0"/>
      <geometry>
        <mesh filename="package://2015_drawer_urdf_3a/meshes/Translation_link.STL"/>
      </geometry>
    </collision>
  </link>
  <joint name="drawer7_translation_joint" type="prismatic">
    <origin rpy="0 0 0" xyz="0 0 0"/>
    <parent link="drawer7_rotation_link"/>
    <child link="drawer7_translation_link"/>
    <axis xyz="1 0 0"/>
    <limit effort="0" lower="-0.2" upper="0" velocity="0"/>
  </joint>
  <link name="drawer7_dummy_link">
    <visual>
      <origin rpy="0 0 0" xyz="0 0 0"/>
      <geometry>
        <mesh filename="package://2015_drawer_urdf_3a/meshes/dummy_link.STL"/>
      </geometry>
      <material name="gray2">
        <color rgba="0.752941176470588 0.752941176470588 0.752941176470588 1"/>
      </material>
    </visual>
    <collision>
      <origin rpy="0 0 0" xyz="0 0 0"/>
      <geometry>
        <mesh filename="package://2015_drawer_urdf_3a/meshes/dummy_link.STL"/>
      </geometry>
    </collision>
  </link>
  <joint name="drawer7_dummy_joint" type="fixed">
    <origin rpy="1.571 0 0" xyz="-0.192576 0.0063436 0.11251"/>
    <parent link="drawer7_translation_link"/>
    <child link="drawer7_dummy_link"/>
    <axis xyz="0 1 0"/>
    <limit effort="0" lower="0" upper="0" velocity="0"/>
  </joint>
</robot>
